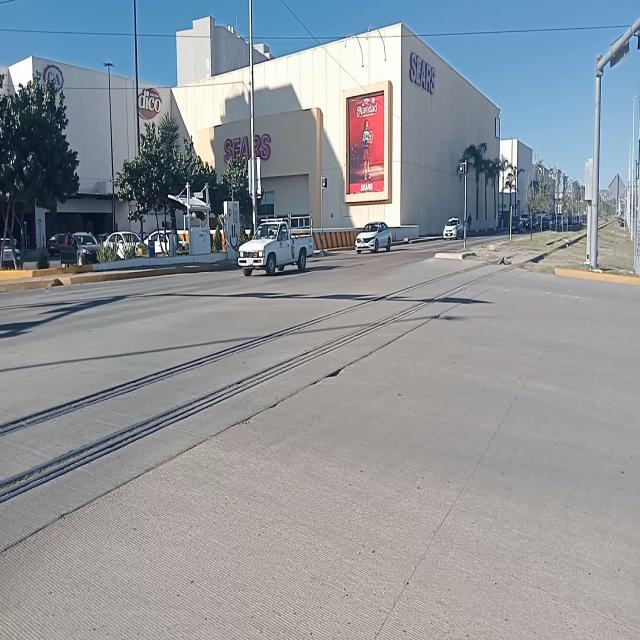Auto: (236, 214, 316, 278)
